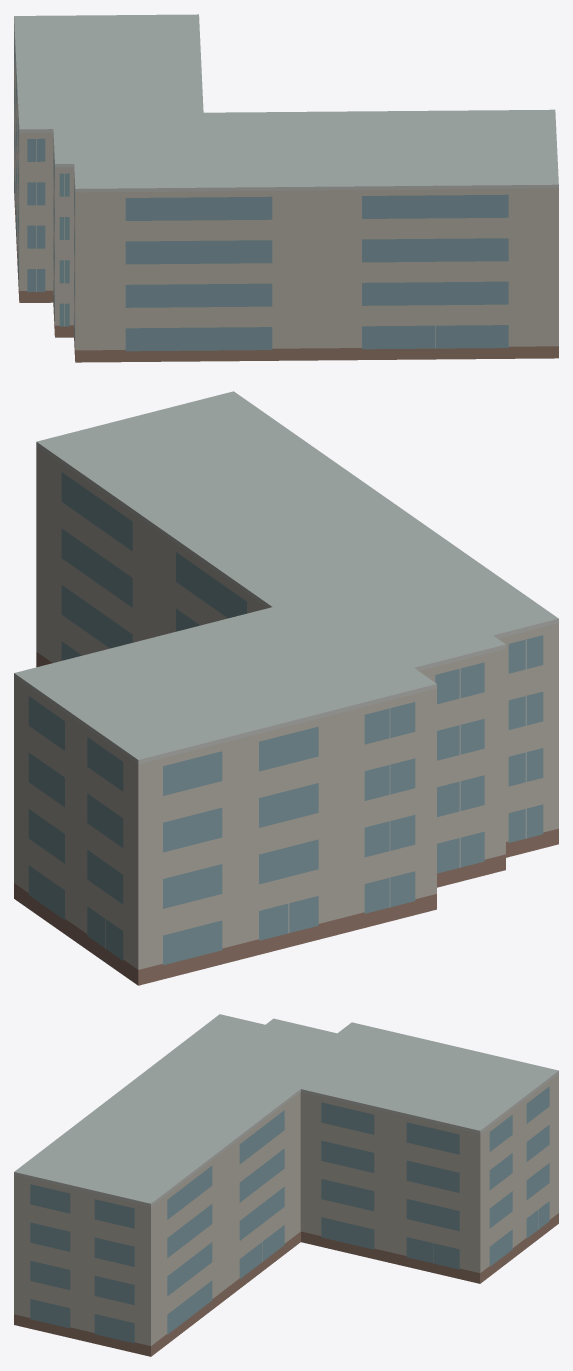
File: residential-2492362e-33f2-4dad-a655-9dd9667e342b.glb
The picture shows the model from 3 angles, top to bottom: view 1: azimuth 30°, elevation 25°; view 2: azimuth 150°, elevation 25°; view 3: azimuth 270°, elevation 25°; orthographic projection. The views are drawn at different scales.
Visible parts, largest first — view 1: residential-2492362e-33f2-4dad-a655-9dd9667e342b.tmp; view 2: residential-2492362e-33f2-4dad-a655-9dd9667e342b.tmp; view 3: residential-2492362e-33f2-4dad-a655-9dd9667e342b.tmp.
Part boxes in pixels (<box>): residential-2492362e-33f2-4dad-a655-9dd9667e342b.tmp: <box>14,14,558,362</box>; residential-2492362e-33f2-4dad-a655-9dd9667e342b.tmp: <box>14,391,558,985</box>; residential-2492362e-33f2-4dad-a655-9dd9667e342b.tmp: <box>14,1014,558,1356</box>.
Bounding box in the file's own units: 32.44 × 12.2 × 39.37.
